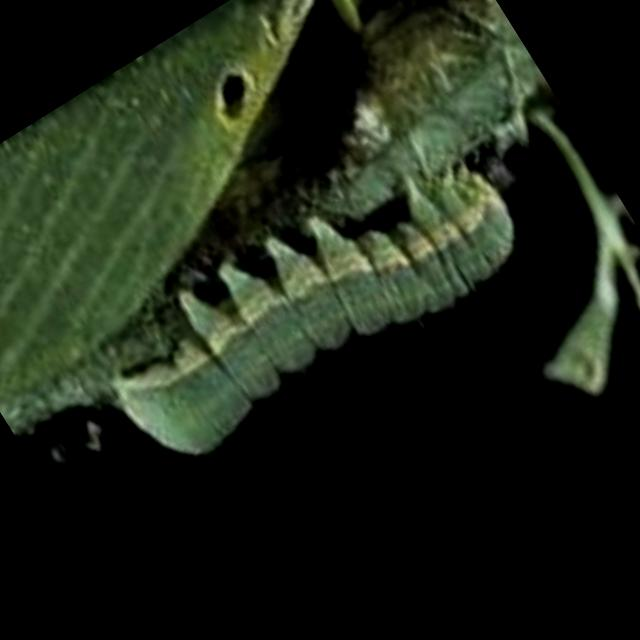Beet armyworm: (31, 74, 582, 552)
